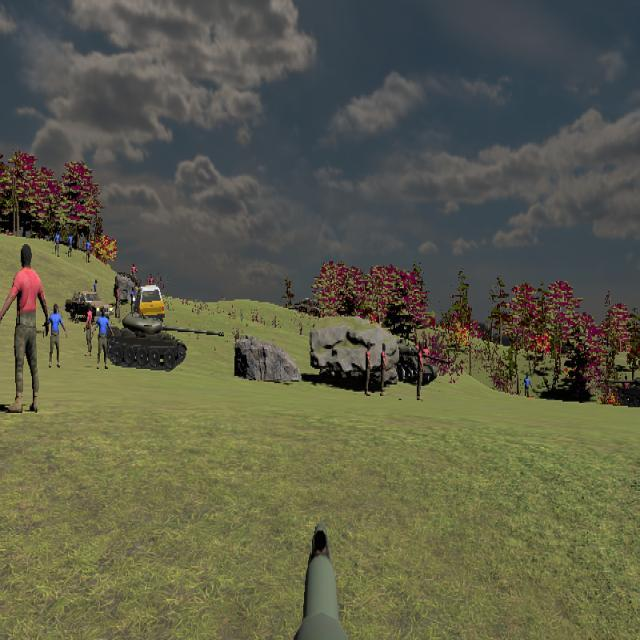Human: (0, 243, 49, 413), (92, 306, 115, 372), (44, 303, 67, 368), (85, 303, 94, 357), (364, 342, 372, 395), (365, 342, 372, 396), (380, 342, 387, 394)
Tank: (105, 313, 224, 372), (397, 343, 449, 386), (602, 376, 640, 408)
car: (65, 290, 110, 322), (65, 290, 110, 321), (132, 284, 165, 322)
